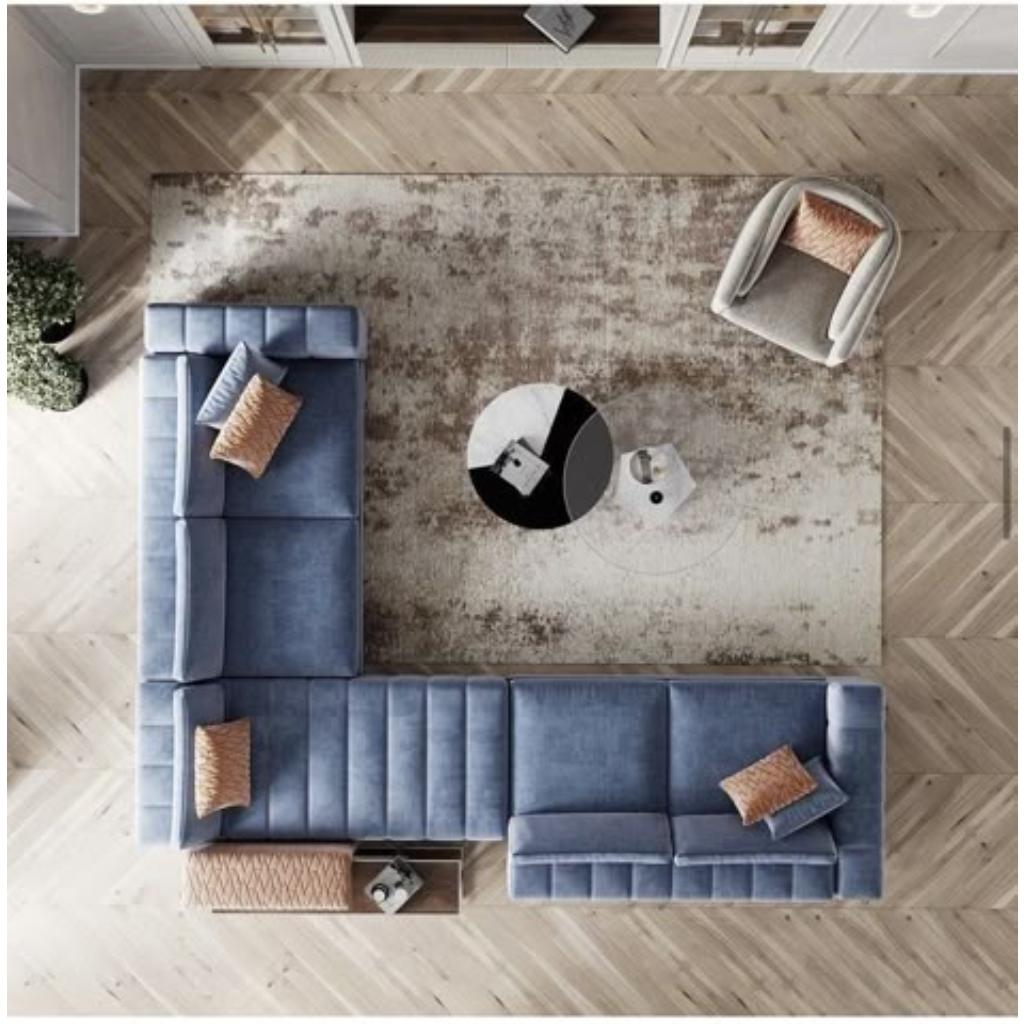TV stand: (338, 6, 682, 70)
bookshelf: (686, 6, 1016, 70), (152, 6, 332, 70)
cabinet: (178, 850, 474, 918)
chair: (701, 154, 920, 375)
chair-bed: (141, 680, 509, 846)
coffee table: (468, 387, 748, 577)
floor plant: (25, 357, 87, 413), (24, 285, 74, 341)
rug: (136, 176, 882, 850)
sofa: (514, 680, 884, 904), (142, 303, 362, 675)
